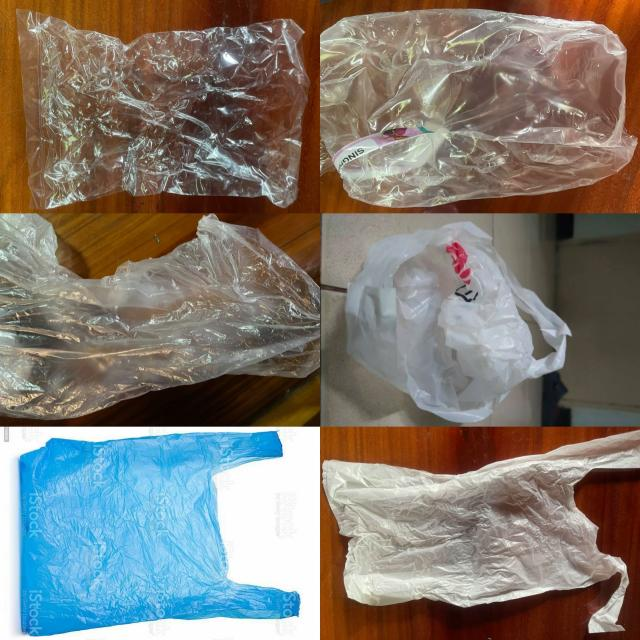Single-layer Plastic: (0, 214, 319, 418), (323, 431, 640, 632), (320, 9, 637, 207), (16, 10, 309, 209), (19, 432, 299, 636), (345, 221, 570, 422)
